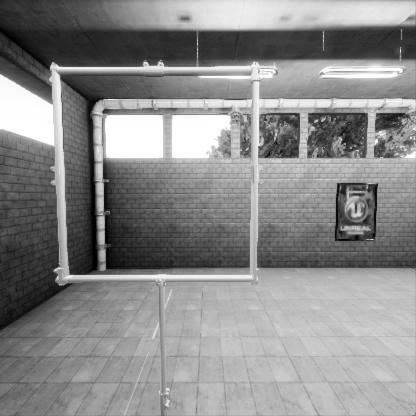gate: (49, 139, 277, 363)
